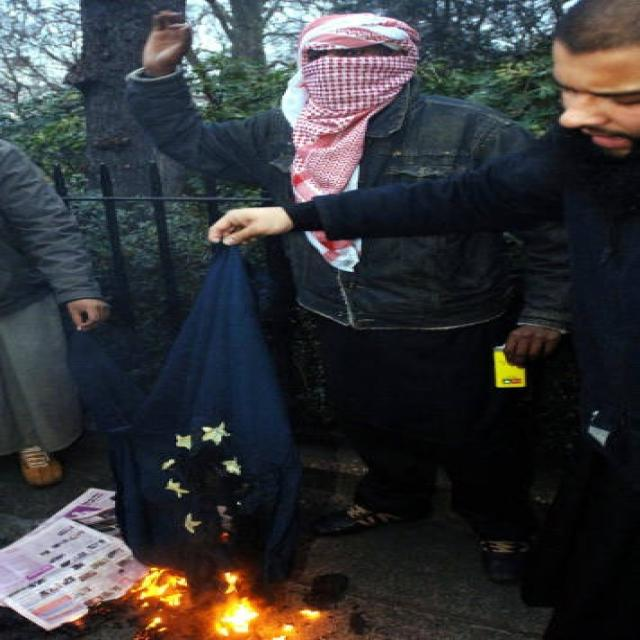fire: (131, 567, 192, 611), (212, 597, 260, 636)
